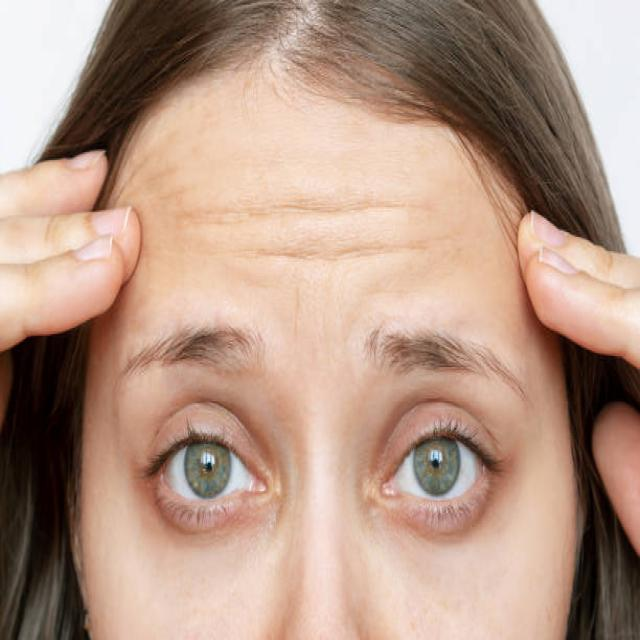Dry-Skin: (222, 164, 335, 301), (389, 538, 486, 640), (115, 542, 210, 640), (367, 181, 430, 305)
